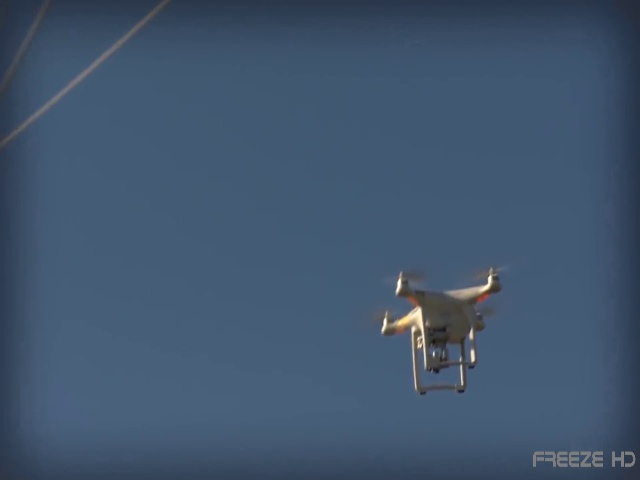drone: (363, 261, 522, 403)
